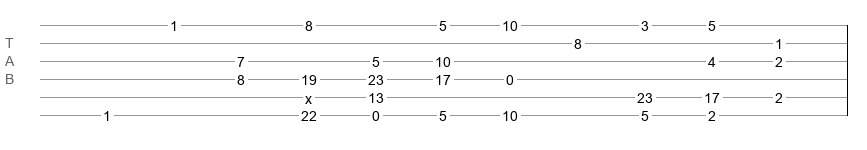0: (372, 108, 380, 118), (506, 72, 514, 82)
1: (103, 108, 111, 118), (170, 18, 178, 28), (775, 36, 783, 46)
10: (435, 54, 451, 64), (502, 18, 518, 28), (502, 108, 518, 118)
13: (368, 90, 384, 100)
17: (435, 72, 451, 82), (704, 90, 720, 100)
19: (301, 72, 317, 82)
2: (708, 108, 716, 118), (775, 90, 783, 100), (775, 54, 783, 64)
22: (301, 108, 317, 118)
23: (368, 72, 384, 82), (637, 90, 653, 100)
3: (641, 18, 649, 28)
4: (708, 54, 716, 64)
5: (372, 54, 380, 64), (439, 18, 447, 28), (439, 108, 447, 118), (641, 108, 649, 118), (708, 18, 716, 28)
7: (237, 54, 245, 64)
8: (237, 72, 245, 82), (305, 18, 313, 28), (574, 36, 582, 46)
x: (305, 91, 312, 99)
